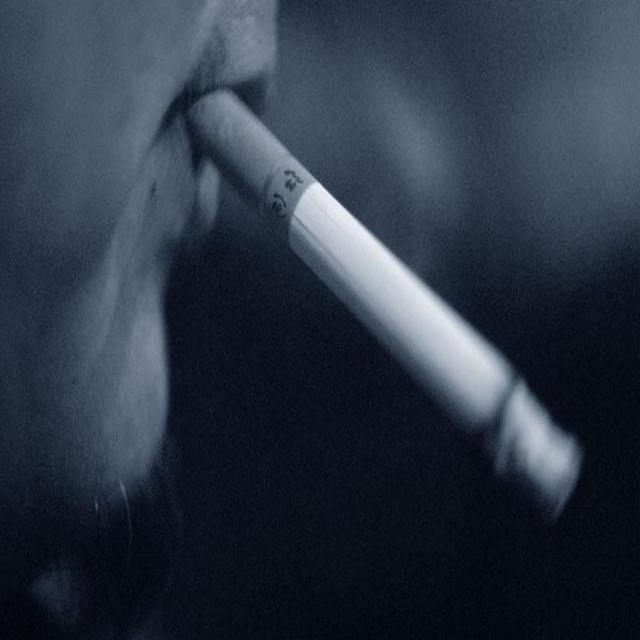smoking: (178, 81, 584, 523)
